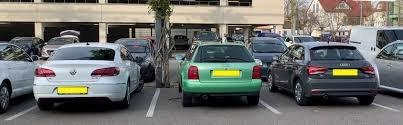Liscence Plate: (57, 85, 89, 95), (211, 69, 241, 79), (332, 66, 360, 75)
